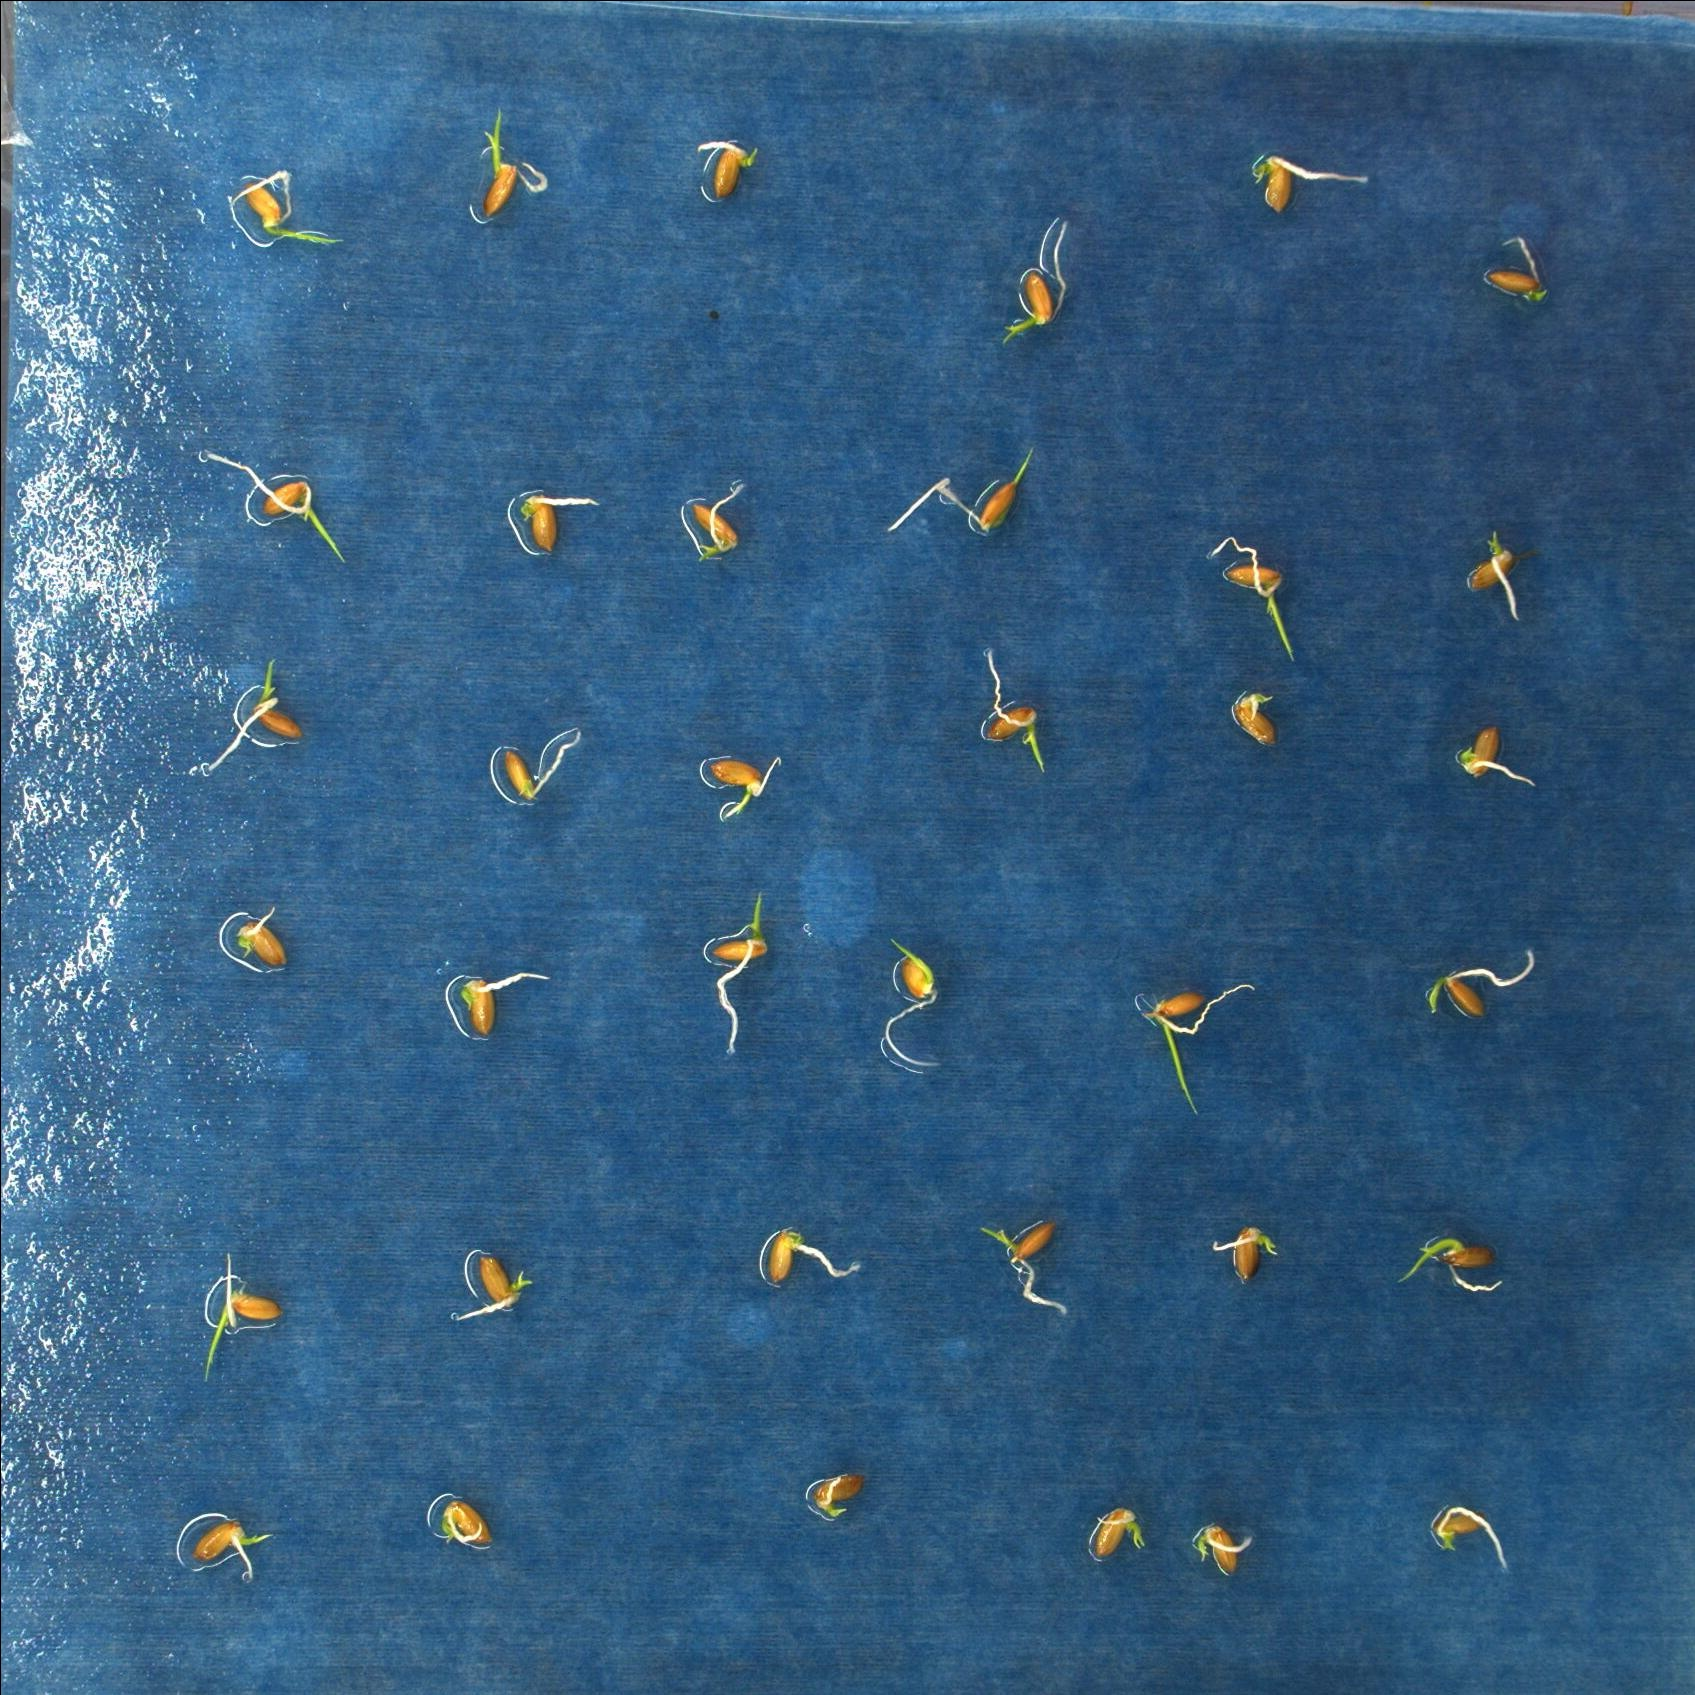not sprout: (439, 965, 548, 1040), (765, 1226, 865, 1291), (439, 1253, 532, 1321), (494, 726, 581, 799), (1479, 230, 1552, 304), (512, 492, 598, 553), (1461, 722, 1540, 787), (1437, 1509, 1512, 1575), (1465, 536, 1520, 618), (233, 900, 298, 967)
sprout: (203, 452, 349, 567), (1135, 981, 1256, 1114), (185, 655, 304, 778), (897, 445, 1035, 534), (1211, 532, 1299, 666), (706, 893, 771, 1057), (200, 1251, 279, 1378), (869, 933, 941, 1068), (233, 171, 346, 250), (1001, 217, 1066, 349), (981, 647, 1048, 773), (986, 1220, 1074, 1315), (1246, 151, 1367, 217), (1423, 945, 1538, 1014), (1395, 1234, 1506, 1293), (700, 748, 782, 820), (194, 1516, 272, 1579), (685, 483, 740, 559), (1205, 1226, 1277, 1284), (483, 107, 518, 217), (700, 137, 757, 203), (1194, 1524, 1251, 1579), (1083, 1509, 1146, 1557), (435, 1499, 490, 1551), (816, 1471, 866, 1516), (1234, 692, 1277, 744)
